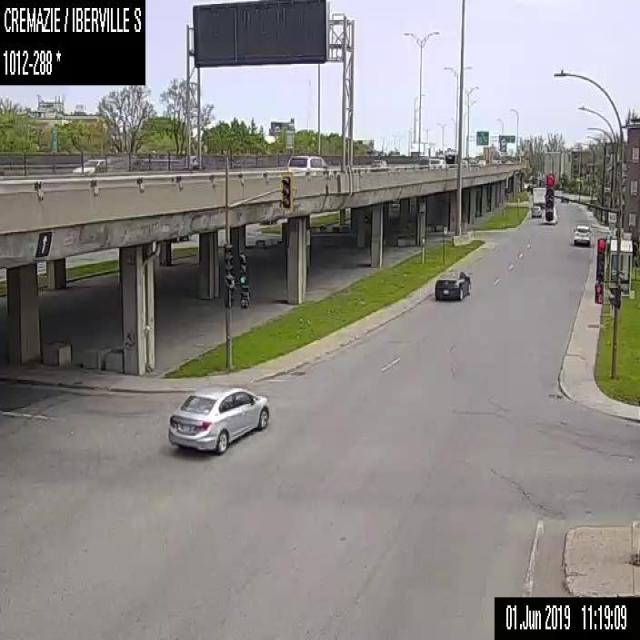vehicle: (166, 384, 269, 454), (434, 269, 469, 300), (286, 152, 326, 171), (72, 156, 110, 174), (572, 223, 592, 245), (541, 203, 558, 223), (532, 186, 545, 208), (428, 155, 448, 168), (371, 157, 386, 167), (530, 204, 541, 217), (478, 157, 487, 165)
